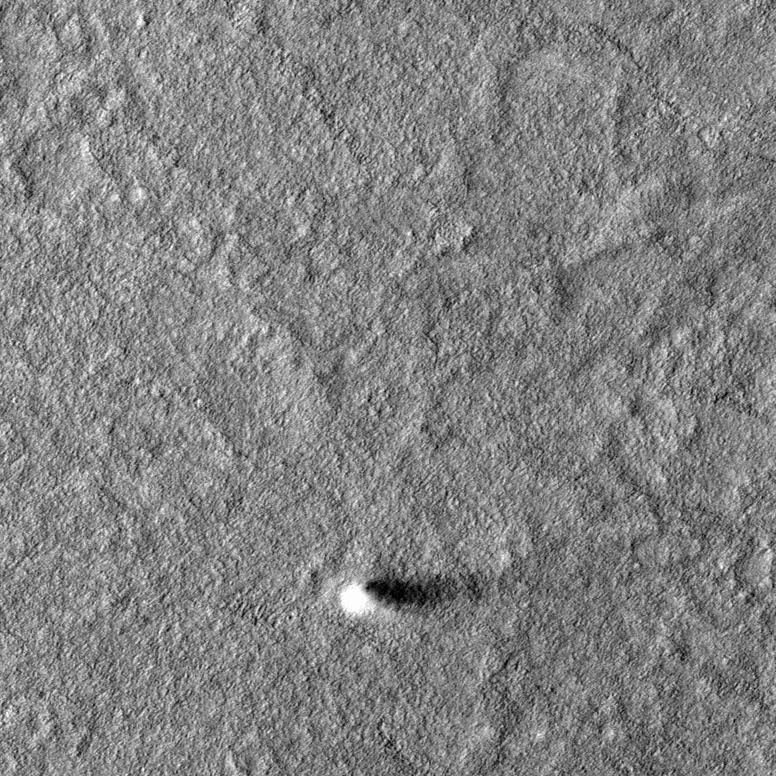dust_devil: (338, 566, 484, 619)
